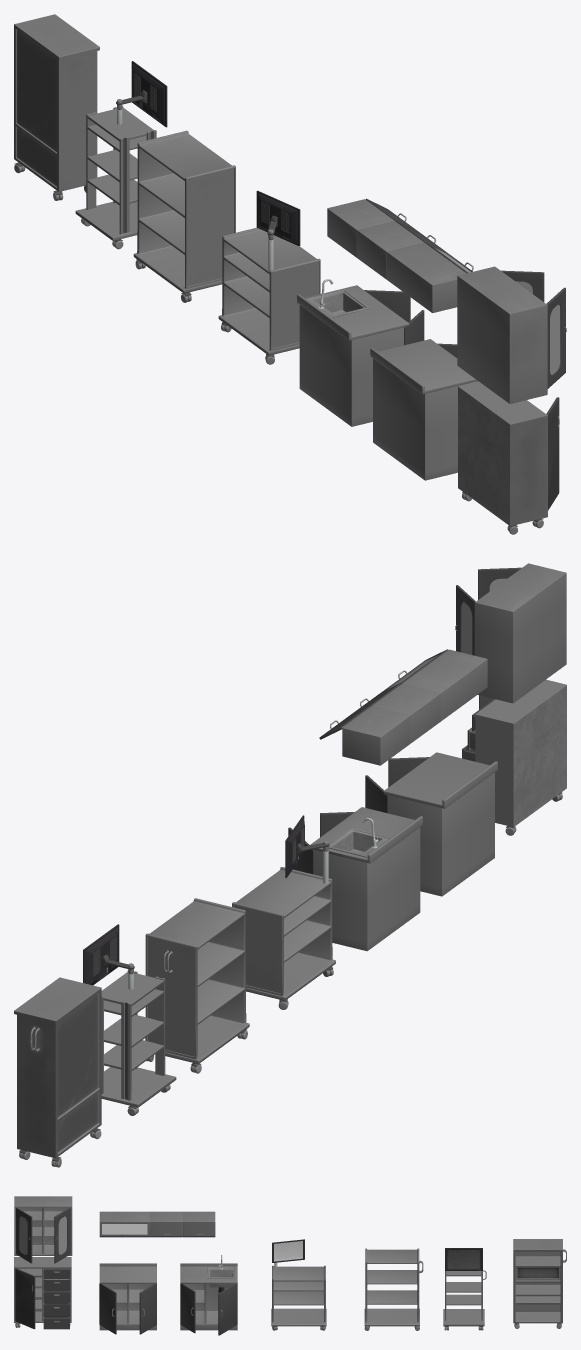
The model's file is hospital_kit_3.glb.
The picture shows the model from 3 angles, top to bottom: view 1: azimuth 30°, elevation 25°; view 2: azimuth 150°, elevation 25°; view 3: azimuth 270°, elevation 25°; orthographic projection. The views are drawn at different scales.
Parts seen in each view (by area): view 1: shkaf11, Shkaf9, Cube.032, Cube.062, Cube.068, Cube.015, Cube.086, Cube.128, Cube.088, Cube.002, Cube.096, Cube.134 (+5 smaller); view 2: Shkaf9, shkaf11, Cube.068, Cube.062, Cube.015, Cube.086, Cube.032, Cube.128, Cube.088, Cube.096, Cube.002, Cube.134 (+2 smaller); view 3: Shkaf9, shkaf11, Cube.086, Cube.068, Cube.062, Cube.015, Cube.128, Cube.032, Cube.050, Cube.134, Cube.084, Cube.023 (+16 smaller).
Part boxes in pixels (bbox=[...]): shkaf11: bbox=[133, 130, 235, 302]; Shkaf9: bbox=[14, 14, 99, 200]; Cube.032: bbox=[458, 381, 547, 534]; Cube.062: bbox=[370, 339, 477, 480]; Cube.068: bbox=[297, 279, 409, 426]; Cube.015: bbox=[457, 266, 547, 403]; Cube.086: bbox=[218, 227, 320, 364]; Cube.128: bbox=[75, 106, 156, 249]; Cube.088: bbox=[386, 242, 465, 312]; Cube.002: bbox=[356, 220, 423, 278]; Cube.096: bbox=[327, 199, 393, 257]; Cube.134: bbox=[116, 61, 167, 127]; Shkaf9: bbox=[14, 977, 101, 1167]; shkaf11: bbox=[145, 898, 249, 1073]; Cube.068: bbox=[310, 807, 422, 951]; Cube.062: bbox=[383, 752, 497, 896]; Cube.015: bbox=[474, 563, 566, 703]; Cube.086: bbox=[232, 867, 335, 1009]; Cube.032: bbox=[475, 679, 566, 835]; Cube.128: bbox=[101, 970, 176, 1115]; Cube.088: bbox=[402, 649, 487, 721]; Cube.096: bbox=[342, 706, 410, 765]; Cube.002: bbox=[372, 684, 440, 743]; Cube.134: bbox=[83, 924, 134, 989]; Shkaf9: bbox=[513, 1239, 566, 1328]; shkaf11: bbox=[364, 1248, 423, 1330]; Cube.086: bbox=[271, 1265, 326, 1330]; Cube.068: bbox=[180, 1255, 237, 1330]; Cube.062: bbox=[99, 1263, 156, 1330]; Cube.015: bbox=[14, 1196, 72, 1255]; Cube.128: bbox=[443, 1270, 486, 1330]; Cube.032: bbox=[14, 1257, 71, 1327]; Cube.050: bbox=[15, 1268, 35, 1329]; Cube.134: bbox=[445, 1248, 482, 1270]; Cube.084: bbox=[218, 1284, 237, 1335]; Cube.023: bbox=[54, 1207, 70, 1263].
Size of the model in its own units: 5.99 by 13.16 by 53.73.
Materials: 14 (12 with a texture image).
